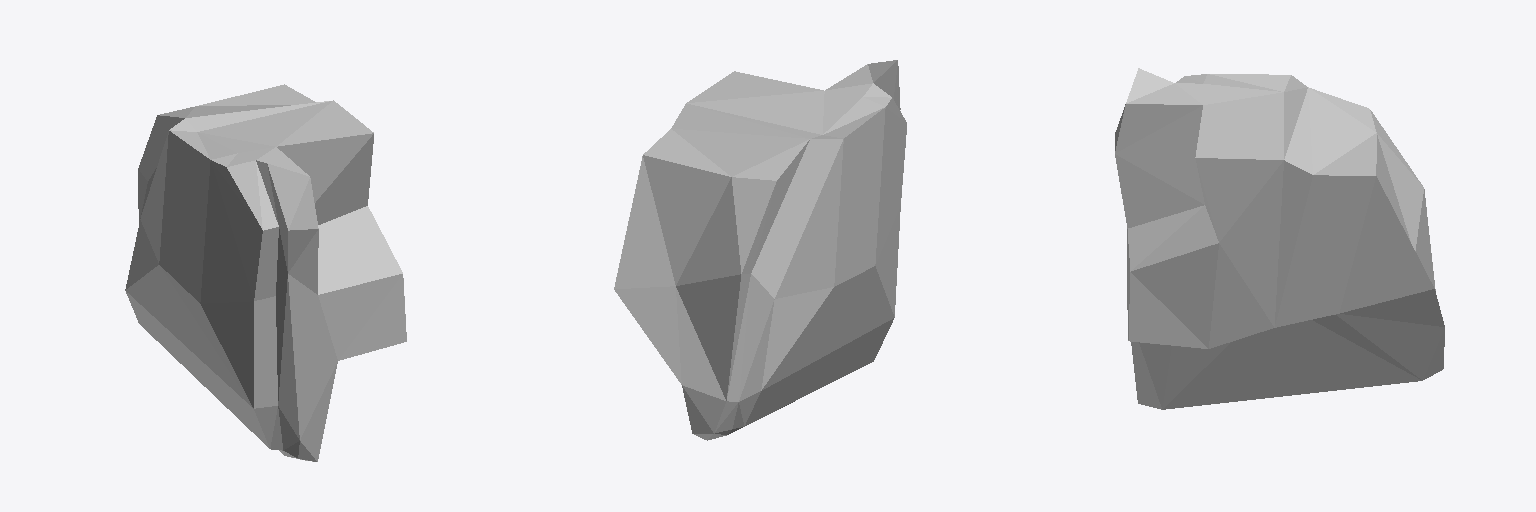
The model's file is palm_right.obj.
3 views of the same model, side by side, from view 1: azimuth 30°, elevation 25°; view 2: azimuth 150°, elevation 25°; view 3: azimuth 270°, elevation 25° (orthographic).
Visible parts, largest first — view 1: Cube; view 2: Cube; view 3: Cube.
Boxes of the visible parts, x1,y1,x2,y2 form: Cube: [125, 84, 406, 461]; Cube: [614, 60, 906, 440]; Cube: [1115, 68, 1444, 409].
Size of the model in its own units: 0.0577 by 0.1075 by 0.1013.